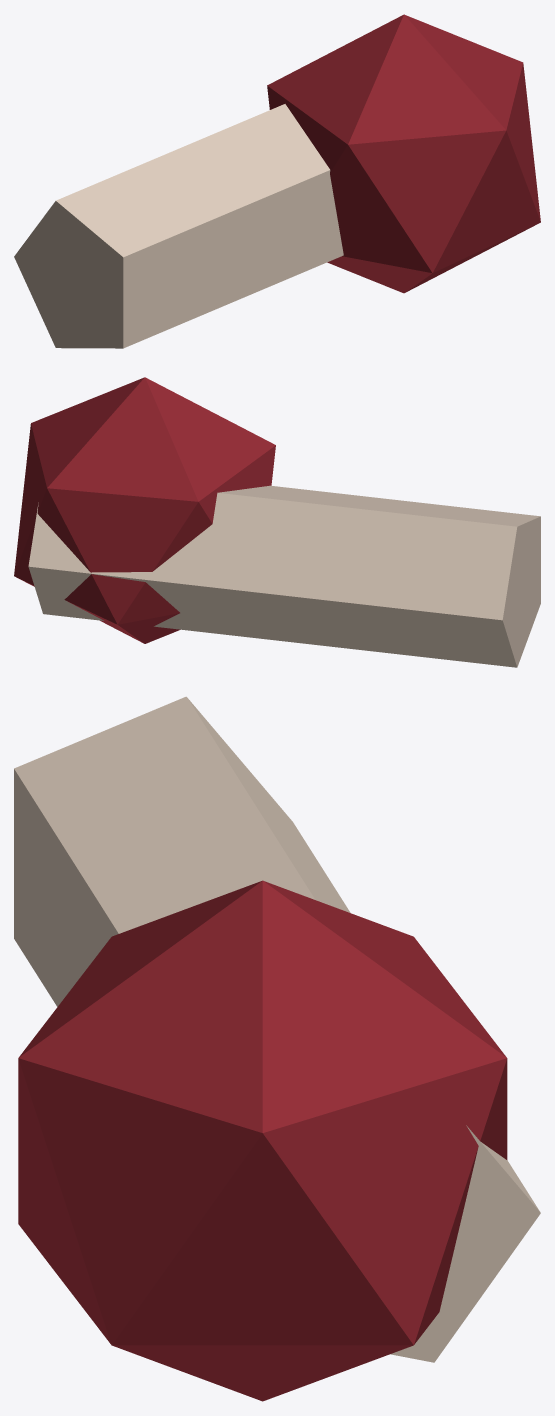
File: inf_gore_chunk_c.fbx
The picture shows the model from 3 angles, top to bottom: view 1: azimuth 30°, elevation 25°; view 2: azimuth 150°, elevation 25°; view 3: azimuth 270°, elevation 25°; orthographic projection. The views are drawn at different scales.
Visible parts, largest first — view 1: inf_gore_chunk_c; view 2: inf_gore_chunk_c; view 3: inf_gore_chunk_c.
Part boxes in pixels (x1,y1,x2,y2): inf_gore_chunk_c: (14, 14, 540, 348); inf_gore_chunk_c: (14, 377, 540, 667); inf_gore_chunk_c: (14, 696, 540, 1401).
Size of the model in its own units: 33.83 by 18 by 16.5.
